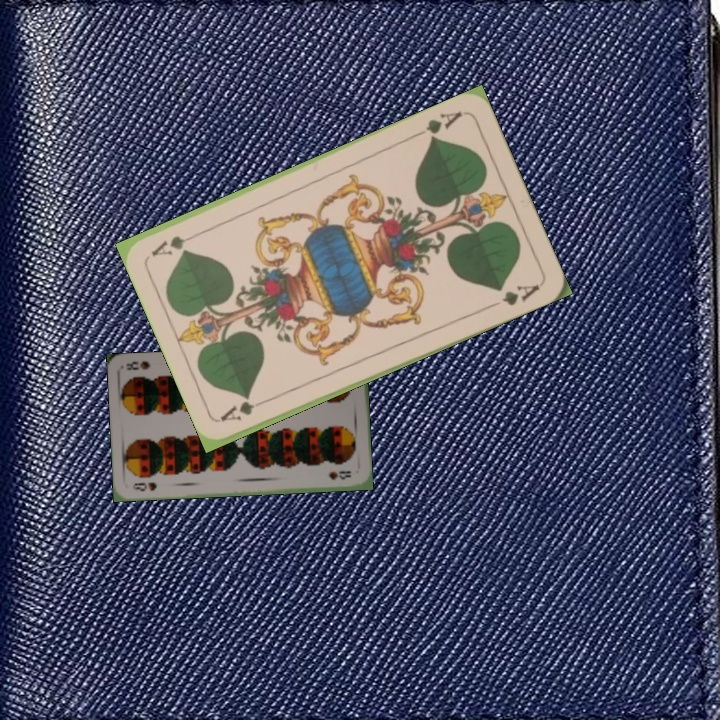GA: (411, 107, 465, 143), (217, 393, 274, 424)
S8: (129, 478, 159, 493)
